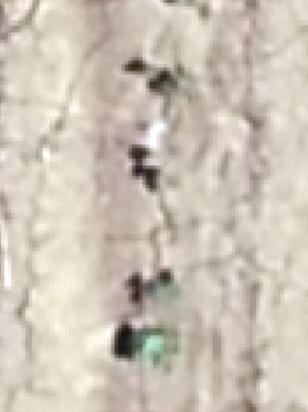cotton: (138, 331, 172, 359), (151, 278, 179, 300), (173, 71, 192, 91)
